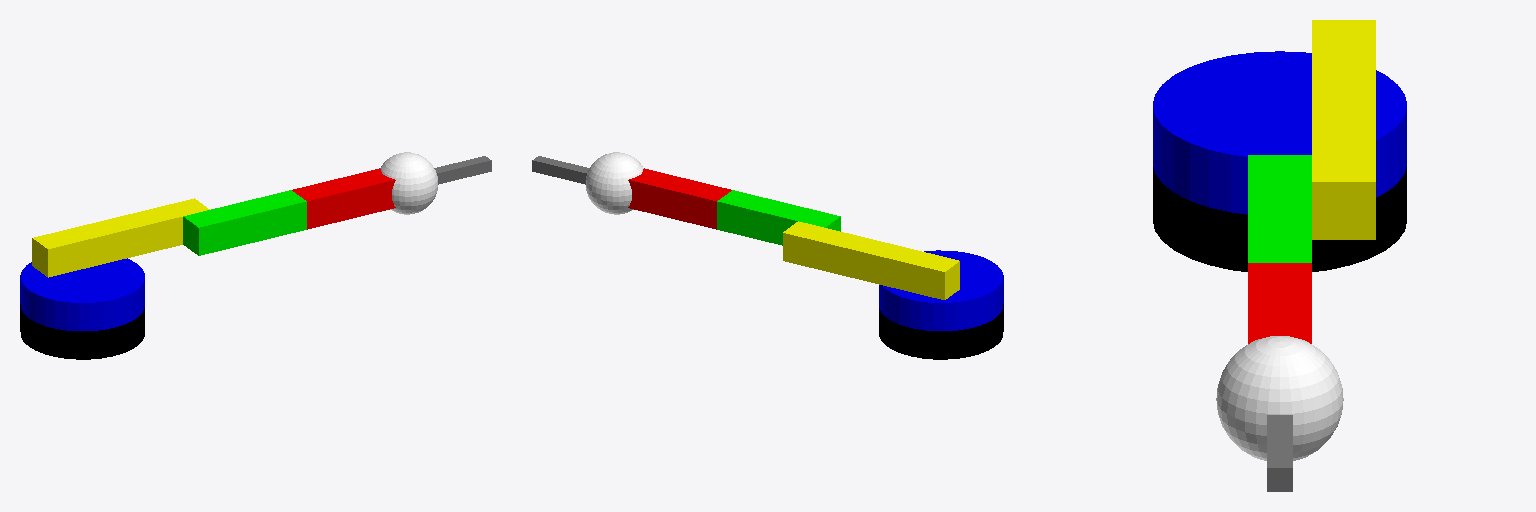
robot.urdf — pegasus_arm:
<?xml version="1.0"?>
<robot name="pegasus_arm">

  <!-- =========================
       World Link (Added)
       ========================= -->
  <link name="world"/>

  <!-- =========================
       World to Base Joint (Added)
       ========================= -->
  <joint name="world_to_base" type="fixed">
    <parent link="world"/>
    <child link="base_link"/>
    <origin xyz="0 0 0" rpy="0 0 0"/>
  </joint>

  <!-- =========================
       1) Base Link
       ========================= -->
  <link name="base_link">
    <inertial>
      <mass value="0.3"/>
      <origin xyz="0 0 0" rpy="0 0 0"/>
      <inertia ixx="1.2e-4" ixy="0" ixz="0" iyy="1.2e-4" iyz="0" izz="1.2e-4"/>
    </inertial>

    <!-- Visual Geometry -->
    <visual>
      <origin xyz="0 0 0" rpy="0 0 0"/>
      <geometry>
        <cylinder radius="0.1" length="0.05"/>
      </geometry>
      <material name="black">
        <color rgba="0 0 0 1"/>
      </material>
    </visual>

    <!-- Collision Geometry -->
    <collision>
      <origin xyz="0 0 0" rpy="0 0 0"/>
      <geometry>
        <cylinder radius="0.1" length="0.05"/>
      </geometry>
    </collision>
  </link>

  <!-- =========================
       Joint 1 (Base) - Continuous
       ========================= -->
  <joint name="joint1_base" type="continuous">
    <origin xyz="0 0 0.05" rpy="0 0 0"/>
    <parent link="base_link"/>
    <child link="link1"/>
    <axis xyz="0 0 1"/>
    <initial_position value="0.00"/>
  </joint>

  <!-- =========================
       Link 1
       ========================= -->
  <link name="link1">
    <inertial>
      <mass value="0.3"/>
      <origin xyz="0 0 0" rpy="0 0 0"/>
      <inertia ixx="1.2e-4" ixy="0" ixz="0" iyy="1.2e-4" iyz="0" izz="1.2e-4"/>
    </inertial>

    <!-- Visual Geometry -->
    <visual>
      <origin xyz="0 0 0" rpy="0 0 0"/>
      <geometry>
        <cylinder radius="0.1" length="0.05"/>
      </geometry>
      <material name="blue">
        <color rgba="0.0 0.0 1.0 1.0"/>
      </material>
    </visual>

    <!-- Collision Geometry -->
    <collision>
      <origin xyz="0 0 0" rpy="0 0 0"/>
      <geometry>
        <cylinder radius="0.1" length="0.05"/>
      </geometry>
    </collision>
  </link>

  <!-- =========================
       Joint 2 (Shoulder)
       ========================= -->
  <joint name="joint2_shoulder" type="revolute">
    <origin xyz="0 0 0.05" rpy="0 0 0"/>
    <parent link="link1"/>
    <child link="link2"/>
    <axis xyz="0 1 0"/>
    <limit lower="-1.22173" upper="0.610865" effort="10" velocity="1.0"/>
    <initial_position value="-0.726"/>
  </joint>

  <!-- =========================
       Link 2
       ========================= -->
  <link name="link2">
    <inertial>
      <mass value="0.15"/>
      <origin xyz="0 0 0" rpy="0 0 0"/>
      <inertia ixx="1.2e-4" ixy="0" ixz="0" iyy="1.2e-4" iyz="0" izz="1.2e-4"/>
    </inertial>

    <!-- Visual Geometry -->
    <visual>
      <origin xyz="0.1 0.05 0" rpy="0 0 0"/>
      <geometry>
        <box size="0.3 0.05 0.05"/>
      </geometry>
      <material name="yellow">
        <color rgba="1.0 1.0 0.0 1.0"/>
      </material>
    </visual>

    <!-- Collision Geometry -->
    <collision>
      <origin xyz="0.1 0.05 0" rpy="0 0 0"/>
      <geometry>
        <box size="0.3 0.05 0.05"/>
      </geometry>
    </collision>
  </link>

  <!-- =========================
       Joint 3 (Elbow) - 100°
       ========================= -->
  <joint name="joint3_elbow" type="revolute">
    <origin xyz="0.2 0 0" rpy="0 0 0"/>
    <parent link="link2"/>
    <child link="link3"/>
    <axis xyz="0 1 0"/>
    <limit lower="-2.7453296096" upper="1.0" effort="10" velocity="1.0"/>
    <initial_position value="-1.247"/>
  </joint>

  <!-- =========================
       Link 3
       ========================= -->
  <link name="link3">
    <inertial>
      <mass value="0.15"/>
      <origin xyz="0 0 0" rpy="0 0 0"/>
      <inertia ixx="1.2e-4" ixy="0" ixz="0" iyy="1.2e-4" iyz="0" izz="1.2e-4"/>
    </inertial>

    <!-- Visual Geometry -->
    <visual>
      <origin xyz="0.1 0 0" rpy="0 0 0"/>
      <geometry>
        <box size="0.2 0.05 0.05"/>
      </geometry>
      <material name="green">
        <color rgba="0.0 1.0 0.0 1.0"/>
      </material>
    </visual>

    <!-- Collision Geometry -->
    <collision>
      <origin xyz="0.1 0 0" rpy="0 0 0"/>
      <geometry>
        <box size="0.2 0.05 0.05"/>
      </geometry>
    </collision>
  </link>

  <!-- =========================
       Joint 4 - 75°
       ========================= -->
  <joint name="joint4" type="revolute">
    <origin xyz="0.2 0 0" rpy="0 0 0"/>
    <parent link="link3"/>
    <child link="link4"/>
    <axis xyz="0 1 0"/>
    <limit lower="-1.309" upper="0" effort="10" velocity="1.0"/>
    <initial_position value="-1.309"/>
  </joint>

  <!-- =========================
       Link 4
       ========================= -->
  <link name="link4">
    <inertial>
      <mass value="0.15"/>
      <origin xyz="0 0 0" rpy="0 0 0"/>
      <inertia ixx="1.2e-4" ixy="0" ixz="0" iyy="1.2e-4" iyz="0" izz="1.2e-4"/>
    </inertial>

    <!-- Visual Geometry -->
    <visual>
      <origin xyz="0.1 0 0" rpy="0 0 0"/>
      <geometry>
        <box size="0.2 0.05 0.05"/>
      </geometry>
      <material name="red">
        <color rgba="1.0 0.0 0.0 1.0"/>
      </material>
    </visual>

    <!-- Collision Geometry -->
    <collision>
      <origin xyz="0.1 0 0" rpy="0 0 0"/>
      <geometry>
        <box size="0.2 0.05 0.05"/>
      </geometry>
    </collision>
  </link>

  <!-- =========================
       Joint 5 (Wrist) - 360°
       ========================= -->
  <joint name="joint5_wrist" type="continuous">
    <origin xyz="0.2 0 0" rpy="0 0 0"/>
    <parent link="link4"/>
    <child link="link5"/>
    <axis xyz="1 0 0"/>
    <initial_position value="0.00"/>
  </joint>

  <!-- =========================
       Link 5 (End Effector)
       ========================= -->
  <link name="link5">
    <inertial>
      <mass value="0.2"/>
      <origin xyz="0 0 0" rpy="0 0 0"/>
      <inertia ixx="1.2e-4" ixy="0" ixz="0" iyy="1.2e-4" iyz="0" izz="1.2e-4"/>
    </inertial>

    <!-- Visual Geometry -->
    <visual>
      <origin xyz="0 0 0" rpy="0 0 0"/>
      <geometry>
        <sphere radius="0.05"/>
      </geometry>
      <material name="white">
        <color rgba="1.0 1.0 1.0 1.0"/>
      </material>
    </visual>

    <!-- Collision Geometry -->
    <collision>
      <origin xyz="0 0 0" rpy="0 0 0"/>
      <geometry>
        <sphere radius="0.05"/>
      </geometry>
    </collision>

    <!-- Gripper Geometry -->
    <visual>
      <origin xyz="0.1 0 0" rpy="0 0 0"/>
      <geometry>
        <box size="0.1 0.02 0.02"/>
      </geometry>
      <material name="gray">
        <color rgba="0.5 0.5 0.5 1.0"/>
      </material>
    </visual>
    <collision>
      <origin xyz="0.1 0 0" rpy="0 0 0"/>
      <geometry>
        <box size="0.1 0.02 0.02"/>
      </geometry>
    </collision>
  </link>

  <!-- =========================
       Joint 6 (End Effector Alias)
       ========================= -->
  <joint name="joint6_end_effector" type="fixed">
    <origin xyz="0 0 0" rpy="0 0 0"/>
    <parent link="link5"/>
    <child link="end_effector_link"/>
  </joint>

  <!-- =========================
       End Effector Link
       ========================= -->
  <link name="end_effector_link">
    <!-- No additional properties needed as it is an alias -->
  </link>

</robot>

--- Facts derived from the render (not from the file) ---
The picture shows the robot from 3 angles, left to right: view 1: azimuth 30°, elevation 25°; view 2: azimuth 150°, elevation 25°; view 3: azimuth 270°, elevation 25°; orthographic projection.
Model pegasus_arm with 8 links and 7 joints (3 revolute, 2 continuous, 2 fixed), rooted at world, posed every joint at zero.
Links seen in each view (by area): view 1: link1, link2, link3, link4, base_link, link5; view 2: link2, link1, link4, link3, base_link, link5; view 3: link1, link2, link5, base_link, link3, link4.
Link boxes in pixels (x1,y1,x2,y2): link1: [20, 258, 144, 330]; link2: [32, 198, 209, 277]; link3: [183, 190, 306, 255]; link4: [292, 168, 395, 229]; base_link: [20, 304, 144, 359]; link5: [380, 152, 491, 214]; link2: [783, 221, 959, 299]; link1: [879, 250, 1003, 330]; link4: [628, 168, 731, 229]; link3: [717, 190, 840, 245]; base_link: [879, 304, 1003, 359]; link5: [532, 152, 643, 214]; link1: [1153, 51, 1406, 214]; link2: [1312, 20, 1375, 239]; link5: [1216, 336, 1343, 491]; base_link: [1153, 167, 1406, 271]; link3: [1248, 155, 1311, 262]; link4: [1248, 263, 1311, 343].
Bounding box of the posed robot: 0.85 × 0.2 × 0.175 m (x, y, z).
Geometry: primitives only (box / cylinder / sphere), no mesh files.